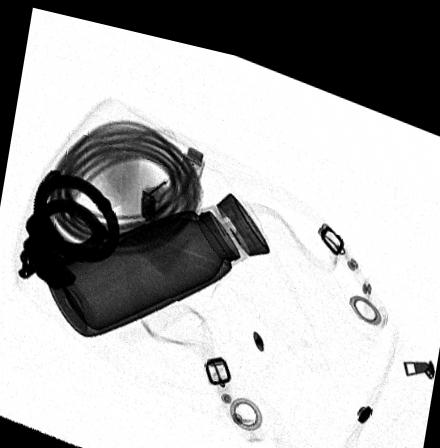HandCuffs: (19, 166, 120, 288)
